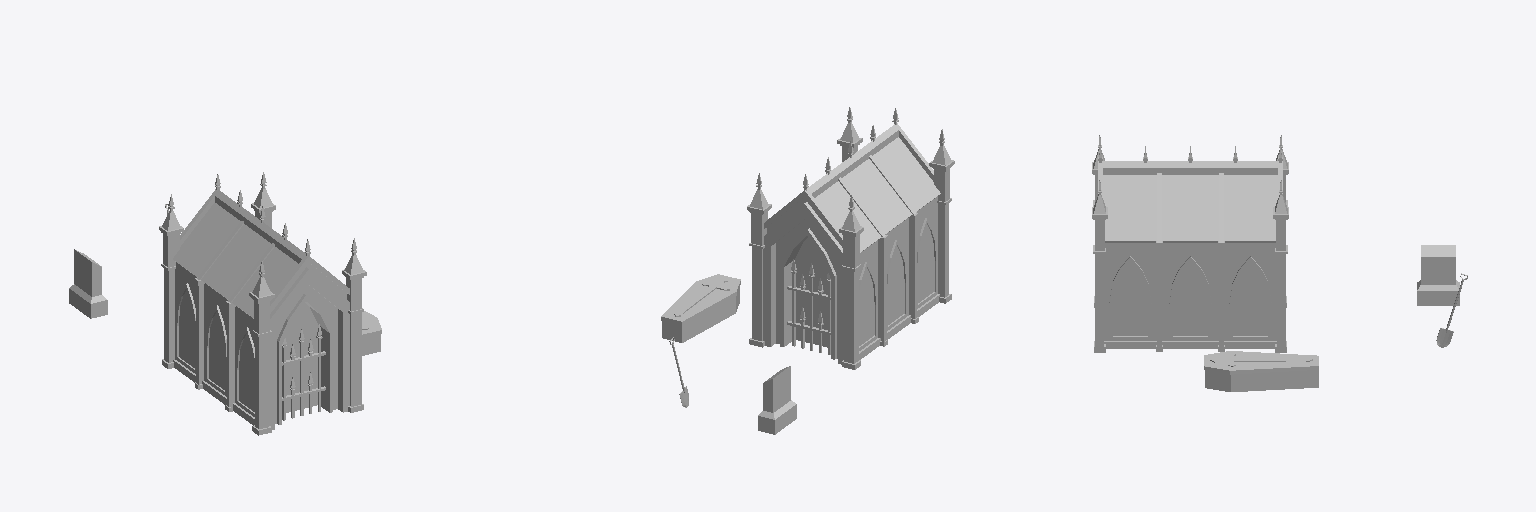
The model's file is shovel.obj.
3 views of the same model, side by side, from view 1: azimuth 30°, elevation 25°; view 2: azimuth 150°, elevation 25°; view 3: azimuth 270°, elevation 25° (orthographic).
Visible parts, largest first — view 1: Crypt_3_Mesh.007, Headstone_3_Mesh.006, Coffin_1_Mesh.005; view 2: Crypt_3_Mesh.007, Coffin_1_Mesh.005, Headstone_3_Mesh.006; view 3: Crypt_3_Mesh.007, Coffin_1_Mesh.005, Headstone_3_Mesh.006.
Boxes of the visible parts, x1=… form: Crypt_3_Mesh.007: x1=159, y1=172, x2=366, y2=435; Headstone_3_Mesh.006: x1=69, y1=249, x2=107, y2=318; Coffin_1_Mesh.005: x1=362, y1=311, x2=381, y2=355; Crypt_3_Mesh.007: x1=747, y1=107, x2=954, y2=369; Coffin_1_Mesh.005: x1=661, y1=274, x2=740, y2=342; Headstone_3_Mesh.006: x1=758, y1=366, x2=796, y2=434; Crypt_3_Mesh.007: x1=1092, y1=135, x2=1288, y2=352; Coffin_1_Mesh.005: x1=1204, y1=351, x2=1318, y2=391; Headstone_3_Mesh.006: x1=1417, y1=245, x2=1459, y2=305.
Size of the model in its own units: 2.83 by 2.56 by 4.77.